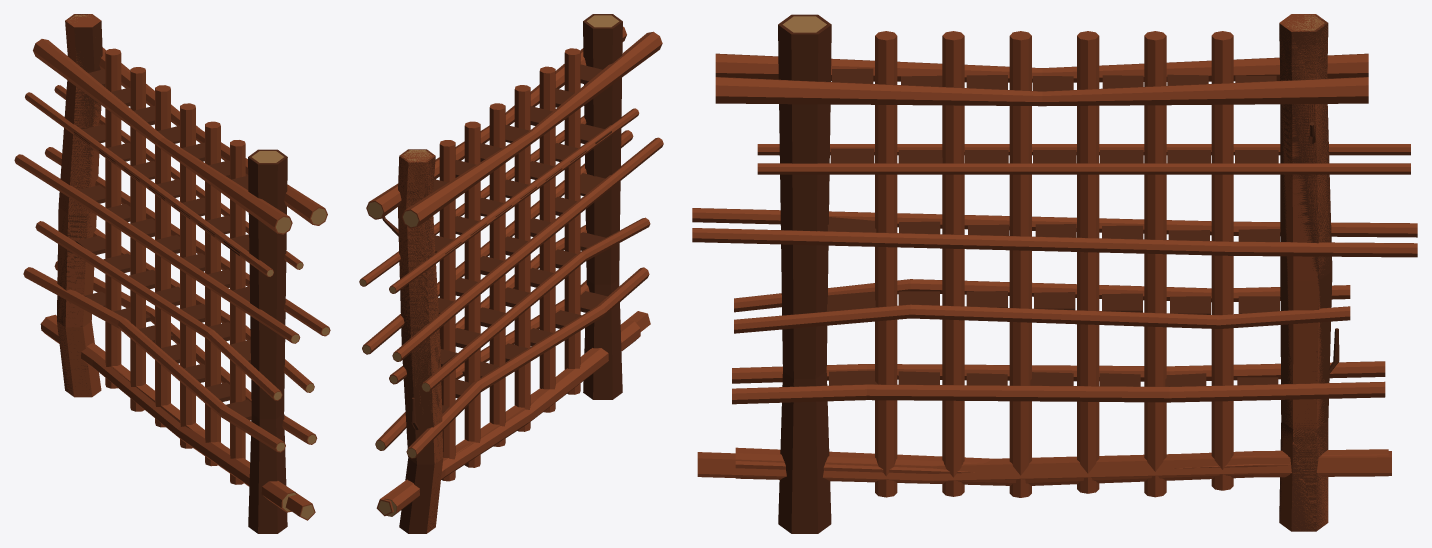
Rendered from plateau.fbx.
The picture shows the model from 3 angles, left to right: view 1: azimuth 30°, elevation 25°; view 2: azimuth 150°, elevation 25°; view 3: azimuth 270°, elevation 25°; orthographic projection. The views are drawn at different scales.
Visible parts, largest first — view 1: trunk2, copyTrunk, littleTrunks6, littleTrunks4, littleTrunks2, trunk1, littleTrunks3, littleTrunk1, Cylinder.003, littleTrunks5, Cylinder.005, Cylinder.004 (+5 smaller); view 2: trunk2, trunk1, littleTrunks6, copyTrunk, littleTrunks4, littleTrunks2, littleTrunk1, littleTrunks3, littleTrunks5, Cylinder.007, Cylinder.005, Cylinder.008 (+6 smaller); view 3: trunk2, littleTrunks6, littleTrunks4, littleTrunks2, trunk1, copyTrunk, littleTrunks3, littleTrunks5, littleTrunk&, Cylinder.005, Cylinder.007, Cylinder.004 (+4 smaller).
Part boxes in pixels (box(x1,y1,x2,y2)): trunk2: box(248, 149, 287, 533); copyTrunk: box(57, 14, 101, 397); littleTrunks6: box(33, 39, 327, 234); littleTrunks4: box(14, 147, 330, 343); littleTrunks2: box(23, 261, 317, 452); trunk1: box(57, 14, 102, 395); littleTrunks3: box(35, 221, 314, 400); littleTrunk1: box(40, 316, 297, 512); Cylinder.003: box(105, 48, 121, 388); littleTrunks5: box(25, 85, 303, 276); Cylinder.005: box(180, 103, 195, 448); Cylinder.004: box(130, 67, 145, 411); trunk2: box(583, 14, 622, 399); trunk1: box(382, 149, 442, 533); littleTrunks6: box(366, 26, 662, 228); copyTrunk: box(398, 149, 443, 533); littleTrunks4: box(362, 130, 663, 361); littleTrunks2: box(375, 267, 649, 458); littleTrunk1: box(384, 320, 640, 516); littleTrunks3: box(389, 217, 650, 392); littleTrunks5: box(359, 108, 639, 293); Cylinder.007: box(539, 66, 555, 412); Cylinder.005: box(514, 85, 530, 431); Cylinder.008: box(564, 48, 580, 394); trunk2: box(778, 14, 831, 533); littleTrunks6: box(715, 53, 1368, 106); littleTrunks4: box(692, 208, 1417, 257); littleTrunks2: box(732, 361, 1385, 404); trunk1: box(1279, 14, 1339, 531); copyTrunk: box(1279, 14, 1330, 531); littleTrunks3: box(734, 279, 1350, 333); littleTrunks5: box(757, 144, 1410, 174); littleTrunk&: box(697, 451, 1391, 482); Cylinder.005: box(1009, 31, 1031, 497); Cylinder.007: box(942, 31, 964, 496); Cylinder.004: box(1144, 31, 1166, 497).
Bounding box in the file's own units: 37.55 × 205 × 268.
